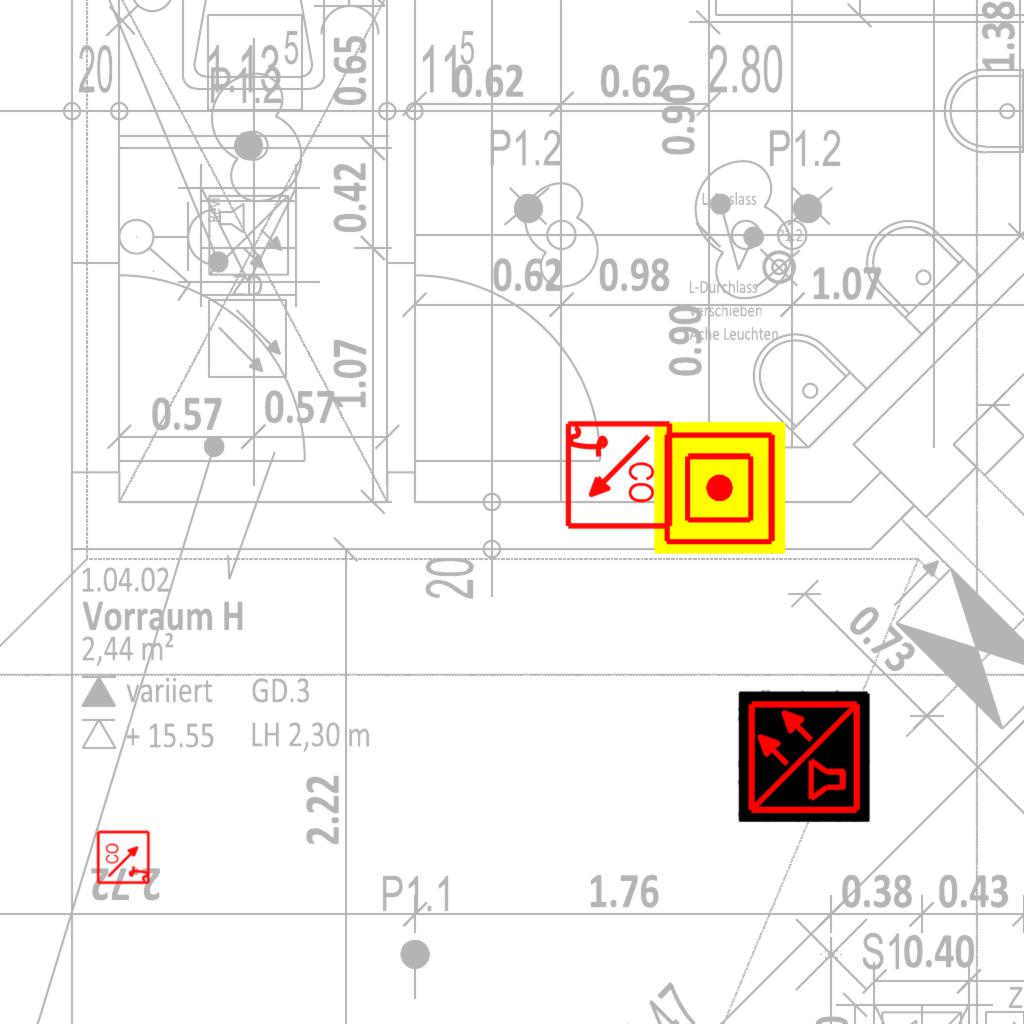NAM-Nichtautomatischer_Melder: (654, 422, 786, 554)
OKW_Multisensormelder_(Kombination_optischer_Rauch-Kahlenmonoxid_Waerme-Melder): (738, 690, 870, 822)
ROA_Rauchmelder_optisch_mit_Signalgeber_(Sockelsirene): (561, 419, 674, 532), (96, 829, 152, 885)
